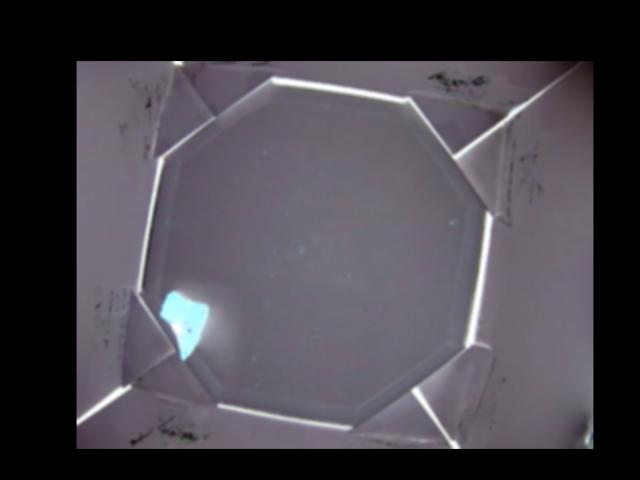Brisk: (158, 290, 212, 360)
